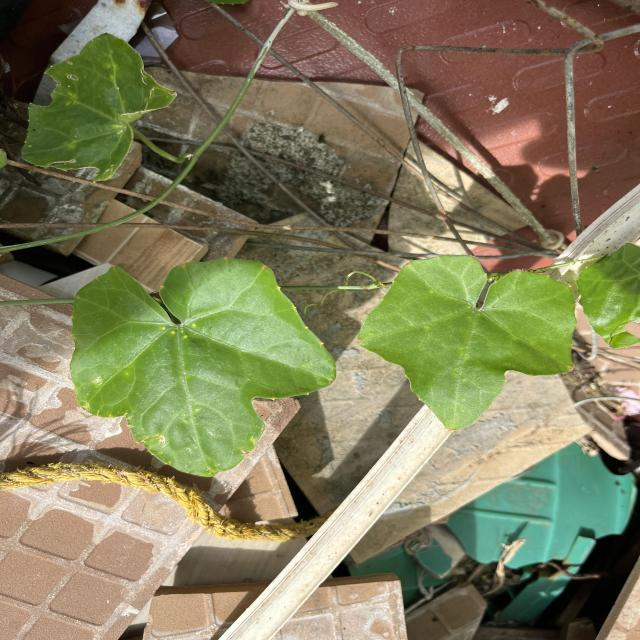Coccinia grandis: (68, 257, 339, 478), (356, 254, 578, 433)
